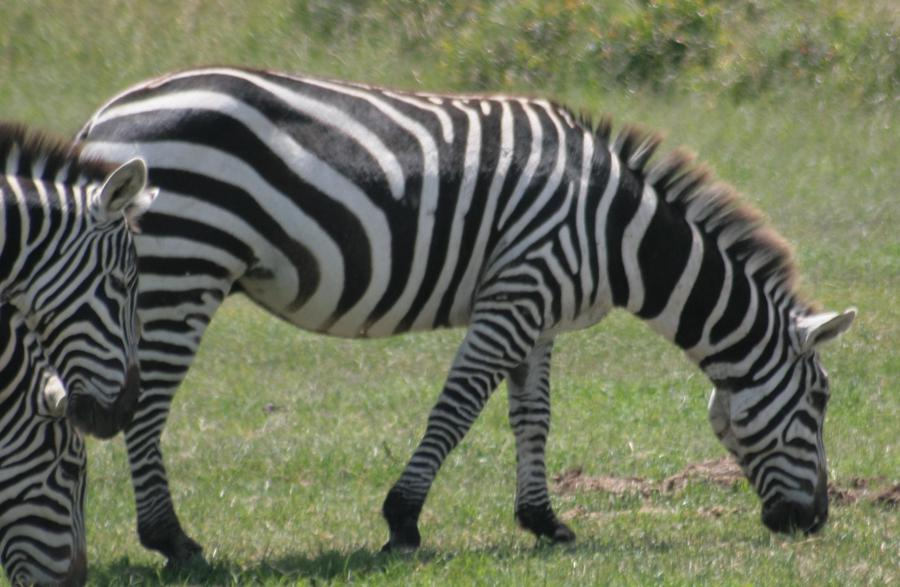zebra_plains: (102, 62, 608, 338)
